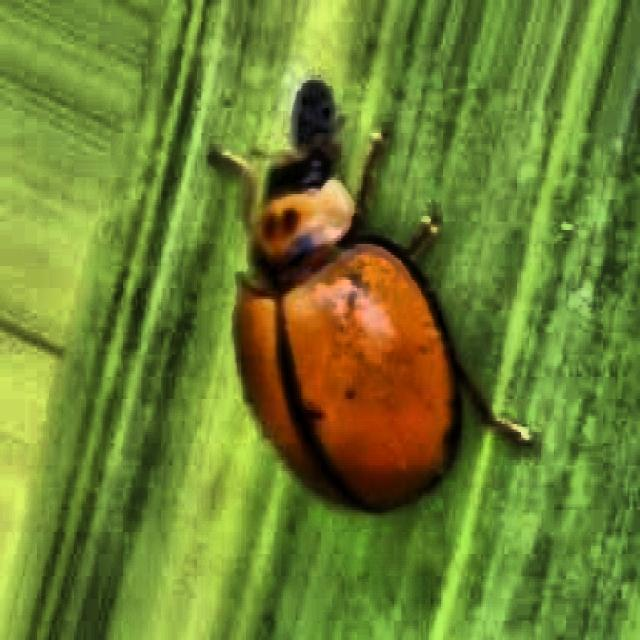Ladybug: (168, 61, 542, 574)
